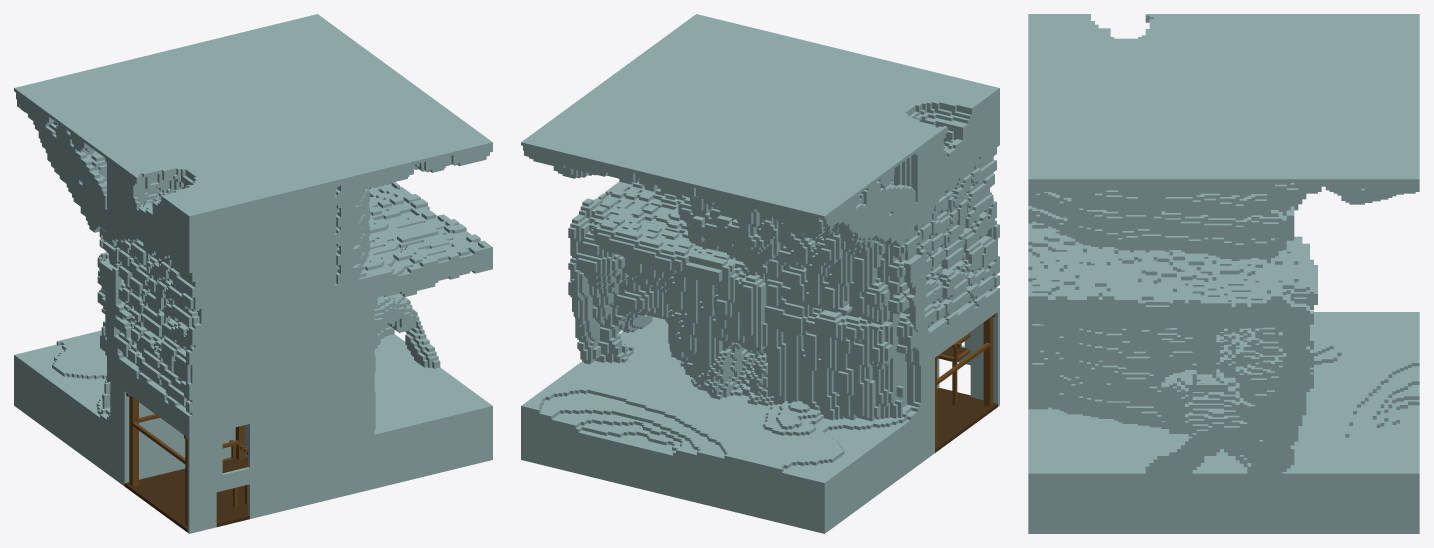
File: TerrainPieces-18.obj
The picture shows the model from 3 angles, left to right: view 1: azimuth 30°, elevation 25°; view 2: azimuth 150°, elevation 25°; view 3: azimuth 270°, elevation 25°; orthographic projection. The views are drawn at different scales.
Visible parts, largest first — view 1: TerrainPieces-18; view 2: TerrainPieces-18; view 3: TerrainPieces-18.
Part boxes in pixels (<box>): TerrainPieces-18: <box>14,14,492,533</box>; TerrainPieces-18: <box>521,14,999,533</box>; TerrainPieces-18: <box>1028,14,1419,533</box>.
Bounding box in the file's own units: 100 × 100 × 100.
Materials: 1 (1 with a texture image).
